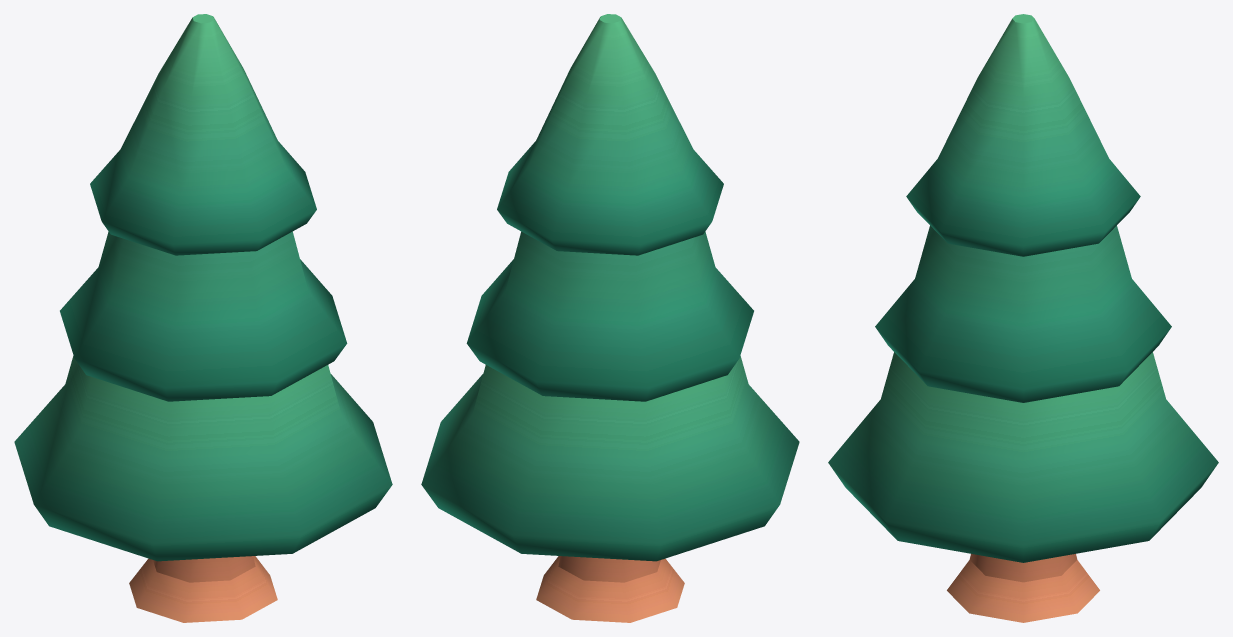
The model's file is kenney-holiday-tree.glb.
The picture shows the model from 3 angles, left to right: view 1: azimuth 30°, elevation 25°; view 2: azimuth 150°, elevation 25°; view 3: azimuth 270°, elevation 25°; orthographic projection.
Parts seen in each view (by area): view 1: tree; view 2: tree; view 3: tree.
Boxes of the visible parts, x1,y1,x2,y2 form: tree: [14, 14, 392, 622]; tree: [421, 14, 799, 622]; tree: [828, 14, 1218, 622].
Size of the model in its own units: 1.19 by 1.92 by 1.19.
1 material, 1 textured.
